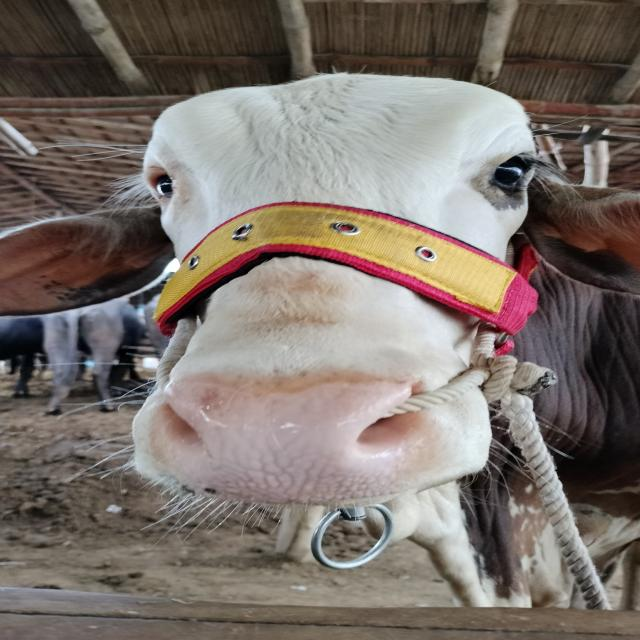muzzles: (125, 367, 467, 510)
